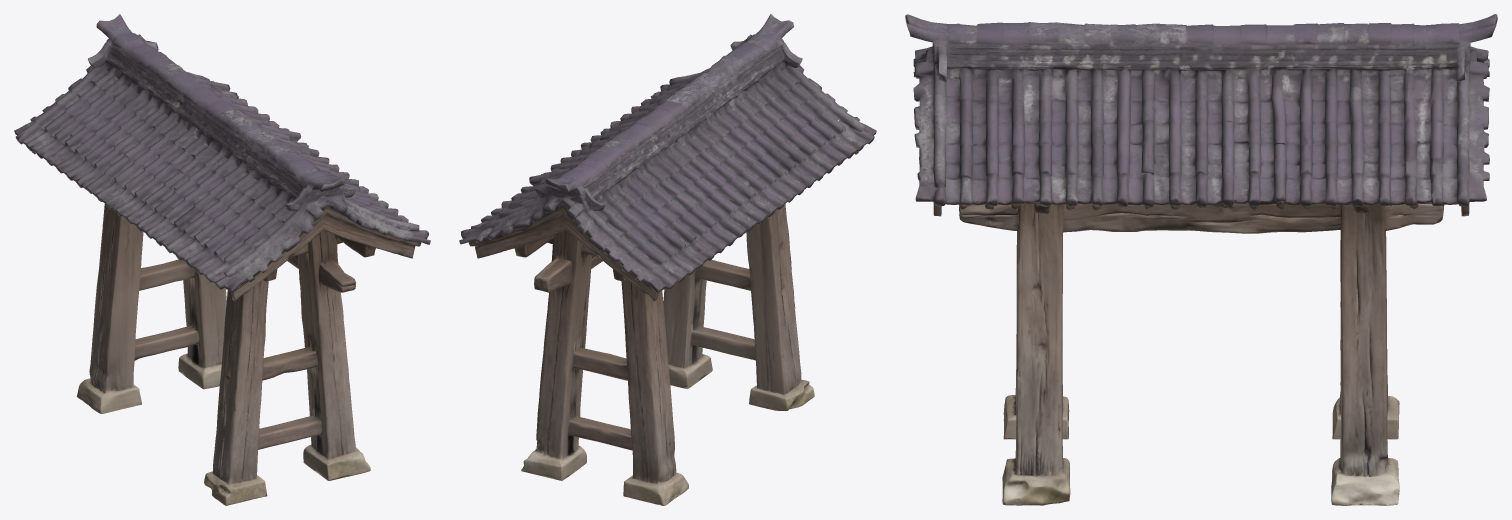
The picture shows the model from 3 angles, left to right: view 1: azimuth 30°, elevation 25°; view 2: azimuth 150°, elevation 25°; view 3: azimuth 270°, elevation 25°; orthographic projection. The views are drawn at different scales.
Parts seen in each view (by area): view 1: tripo_node_a96cdaea-e008-436d-9ce5-0d767dfcf605; view 2: tripo_node_a96cdaea-e008-436d-9ce5-0d767dfcf605; view 3: tripo_node_a96cdaea-e008-436d-9ce5-0d767dfcf605.
Part boxes in pixels (bbox=[...]): tripo_node_a96cdaea-e008-436d-9ce5-0d767dfcf605: bbox=[14, 14, 430, 505]; tripo_node_a96cdaea-e008-436d-9ce5-0d767dfcf605: bbox=[459, 14, 876, 505]; tripo_node_a96cdaea-e008-436d-9ce5-0d767dfcf605: bbox=[905, 14, 1497, 505].
Bounding box in the file's own units: 0.5377 × 0.8081 × 0.9818.
Materials: 1 (1 with a texture image).
